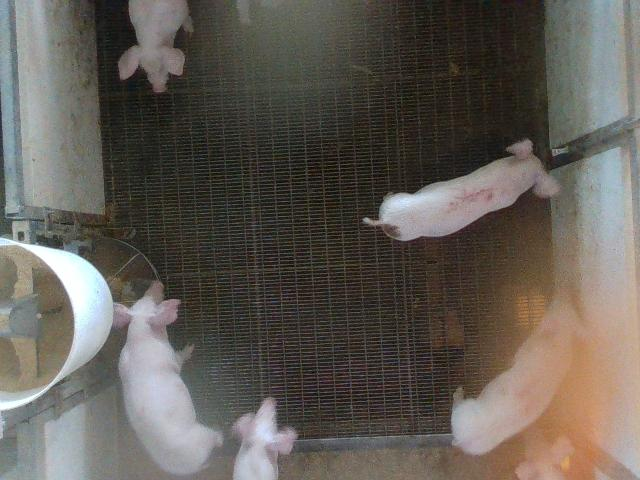pig-4: (451, 296, 579, 454)
pig-5: (364, 139, 560, 241)
